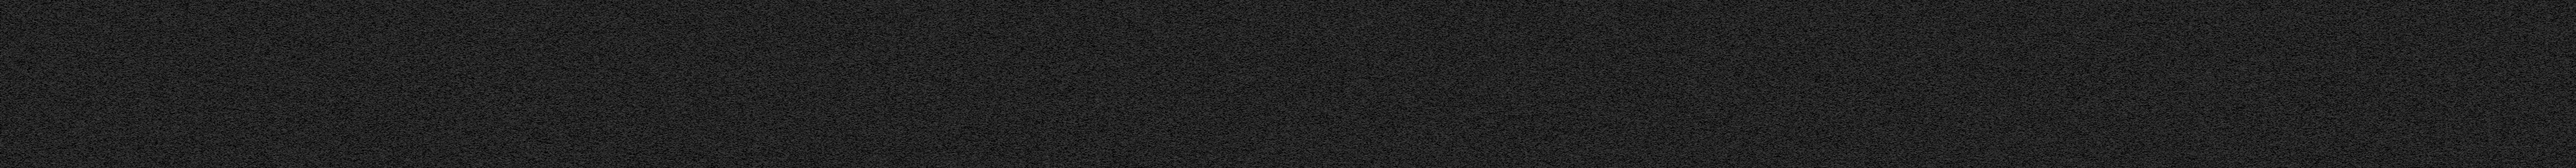wv_am: (11, 0, 15, 168)
wv_lsb: (2292, 40, 2295, 168), (767, 107, 770, 168), (2292, 2, 2293, 38), (767, 66, 770, 81), (767, 2, 770, 16), (767, 59, 770, 64), (767, 16, 770, 21), (767, 104, 770, 105)
